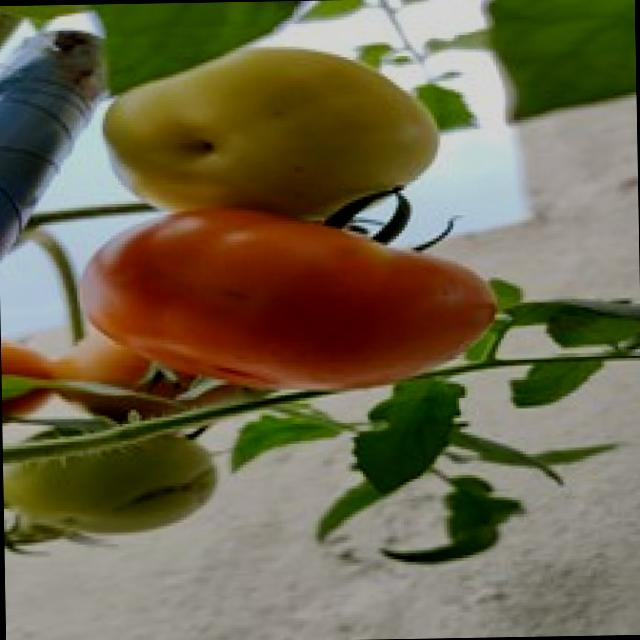tomato: (81, 208, 493, 387)
